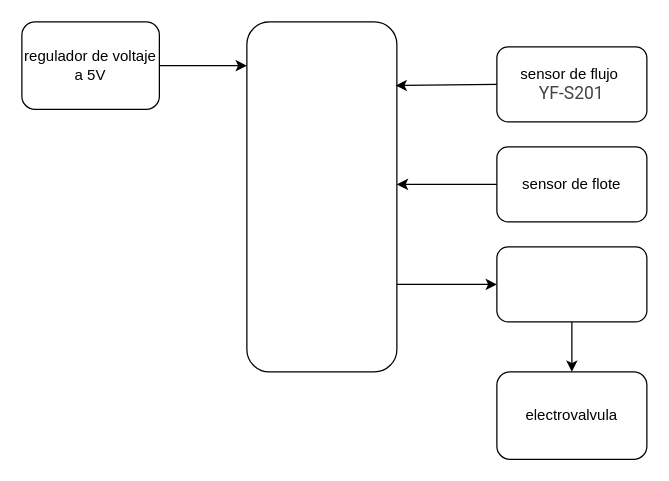
Some shapes in this 669 by 481 pixel diagram are drawn without their labels. The centre of each missing label's shape, as x and y in pixels:
"controlador de potencia" belongs at (571,284).
"MCU ESP32" belongs at (321,196).
